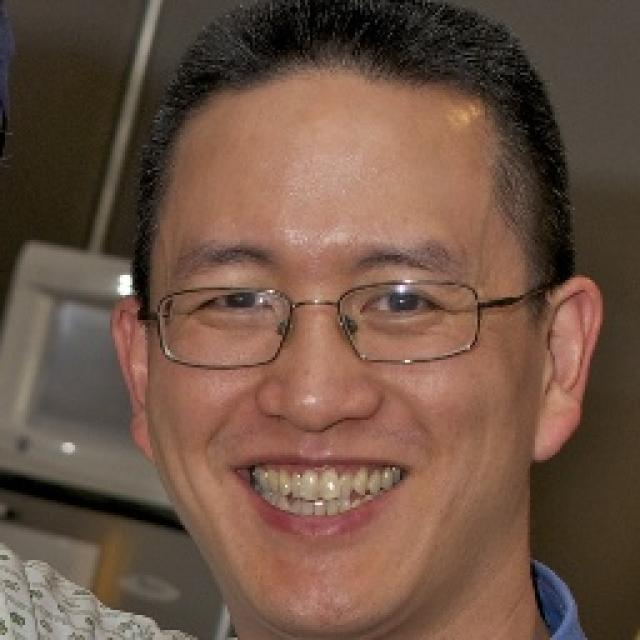earlobe: (532, 276, 602, 463), (112, 301, 155, 463)
